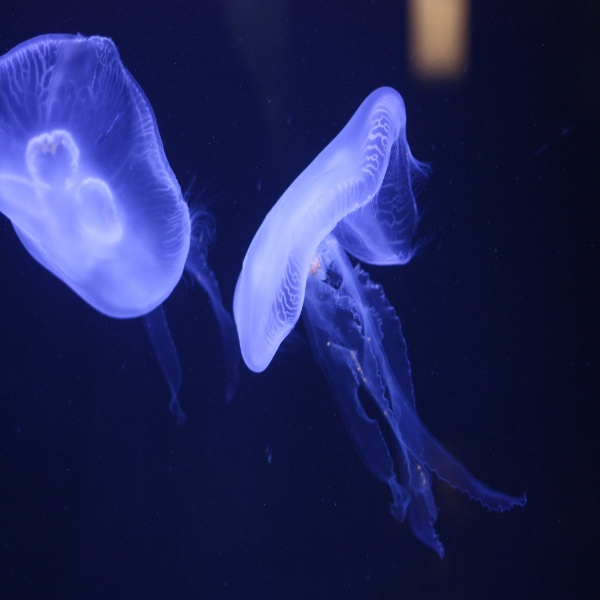Jellyfish: (233, 83, 526, 554), (0, 31, 233, 430)
